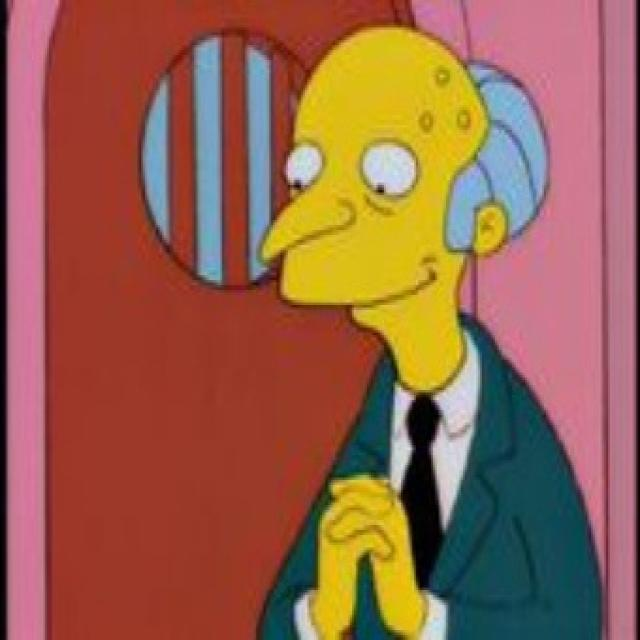Charles Montgomery Burns: (257, 25, 552, 400)
